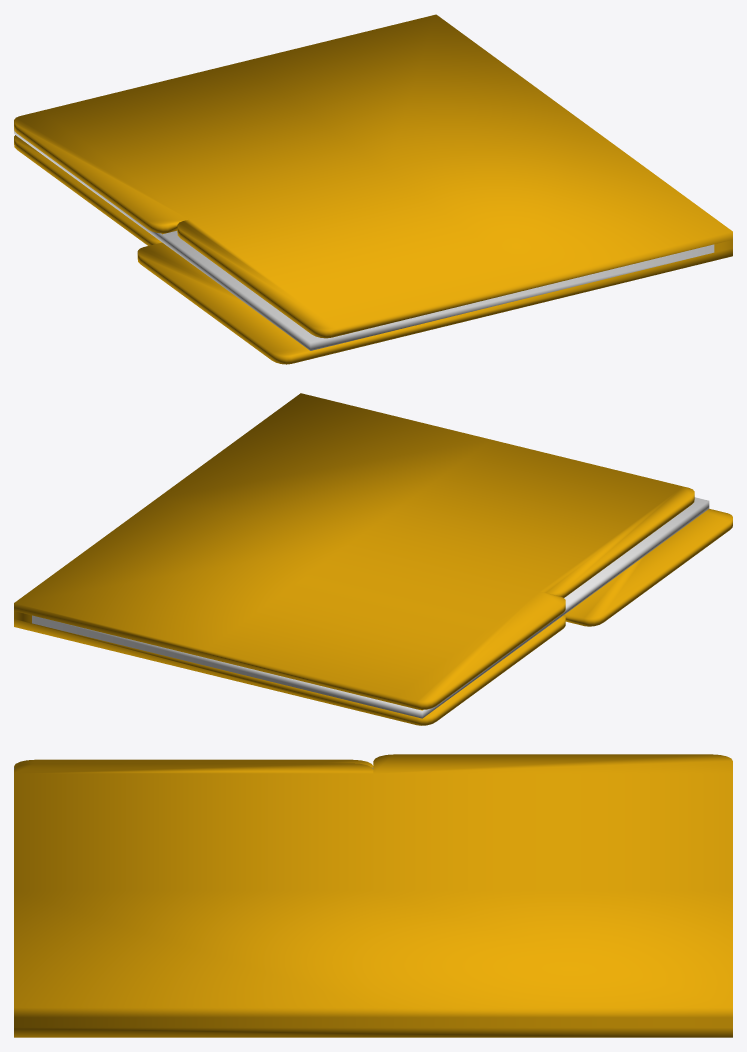
Rendered from Folder.fbx.
3 views of the same model, one above another, from view 1: azimuth 30°, elevation 25°; view 2: azimuth 150°, elevation 25°; view 3: azimuth 270°, elevation 25° (orthographic). The views are drawn at different scales.
Visible parts, largest first — view 1: Folder; view 2: Folder; view 3: Folder.
Part boxes in pixels (x1=…): Folder: x1=14, y1=14, x2=732, y2=364; Folder: x1=14, y1=393, x2=732, y2=725; Folder: x1=14, y1=754, x2=732, y2=1037.
Size of the model in its own units: 35.37 by 1.84 by 40.13.
